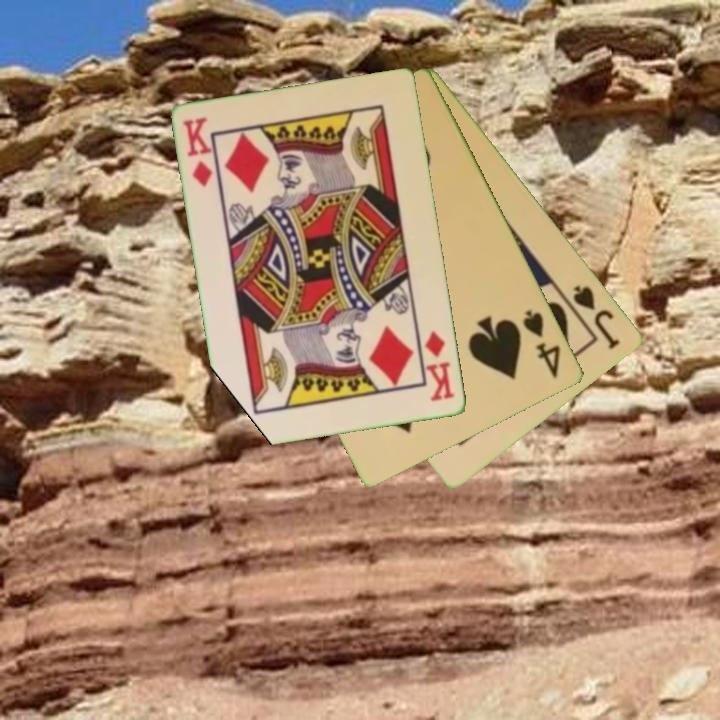4s: (520, 306, 564, 382)
Js: (570, 281, 624, 353)
Kd: (422, 327, 458, 405), (180, 114, 216, 191)
